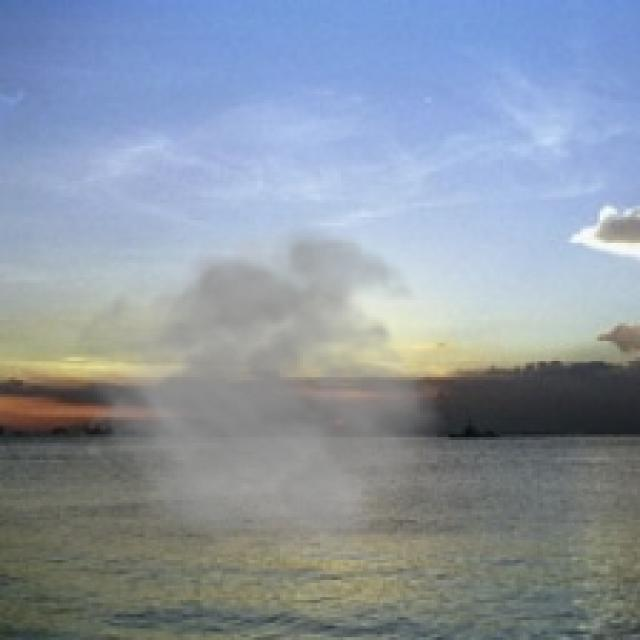smoke: (71, 200, 452, 560)
